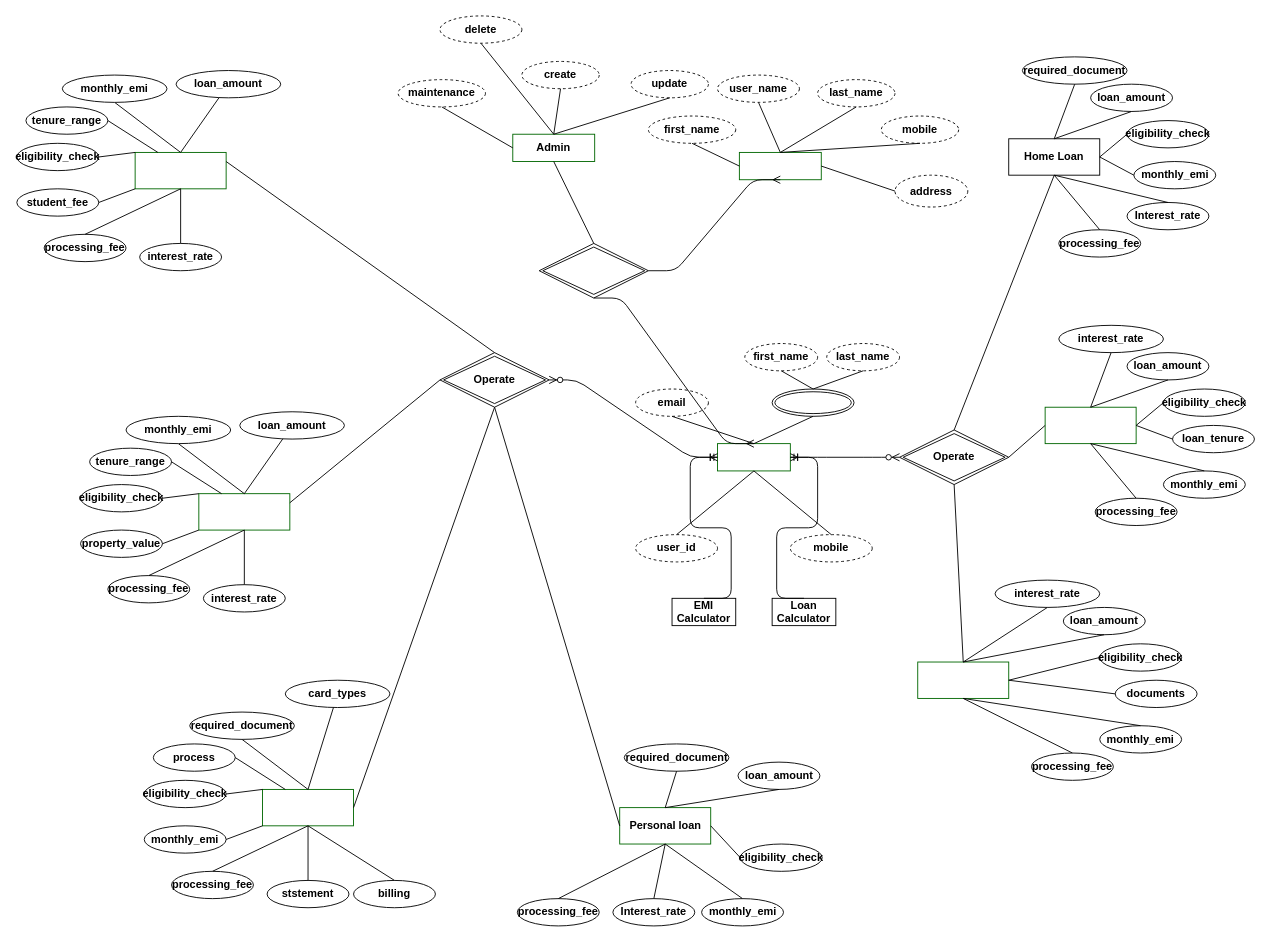
The diagram is 1270 pixels wide and 942 high, and some of its shapes have lost their labels. The centre of each missing label's shape, as x and y in pixels:
"Car Loan" goes at (x=963, y=679).
"Credit Card" goes at (x=308, y=807).
"Education Loan" goes at (x=244, y=511).
"Loan Against property" goes at (x=180, y=170).
"Manage" goes at (x=593, y=270).
"name" goes at (x=812, y=402).
"Register" goes at (x=779, y=166).
"Startup Loan" goes at (x=1090, y=425).
"User" goes at (x=753, y=457).
